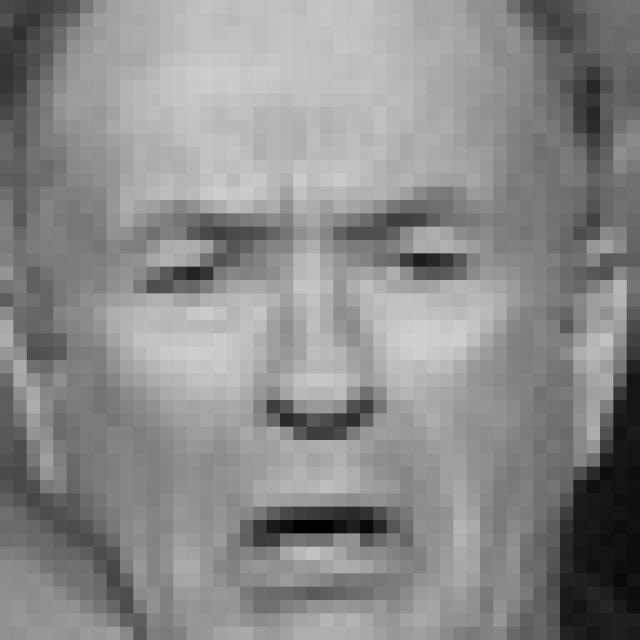disgust: (86, 145, 524, 611)
